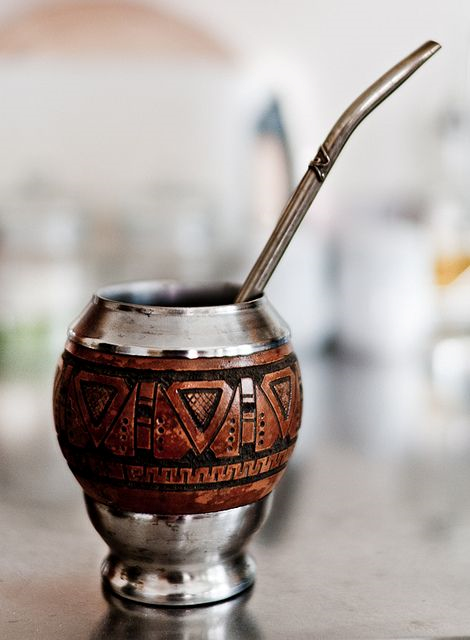calabaza: (47, 271, 306, 613)
mate: (49, 273, 308, 615)
